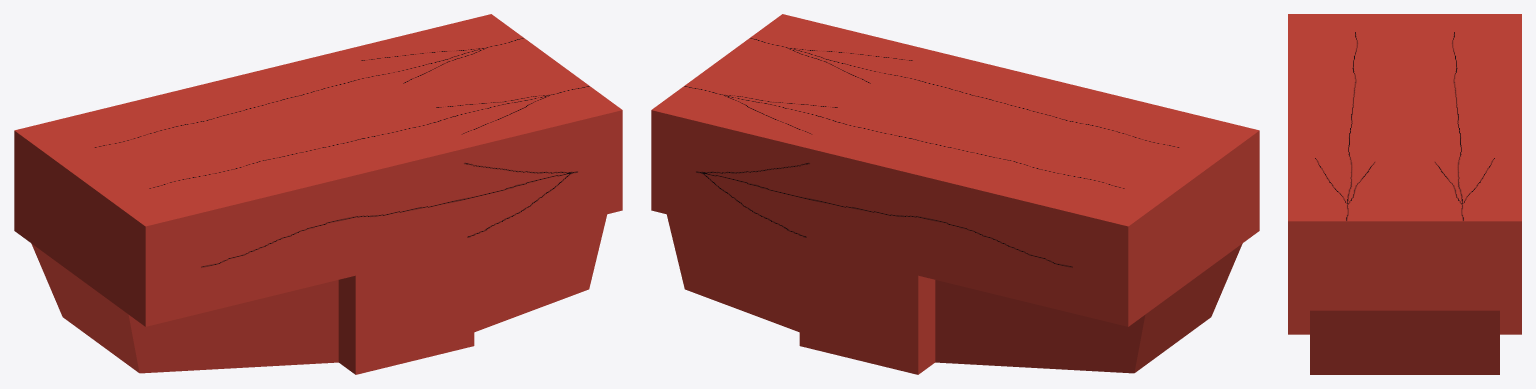
File: basic-combine-body.glb
3 views of the same model, side by side, from view 1: azimuth 30°, elevation 25°; view 2: azimuth 150°, elevation 25°; view 3: azimuth 270°, elevation 25° (orthographic). The views are drawn at different scales.
Visible parts, largest first — view 1: Cube; view 2: Cube; view 3: Cube.
Boxes of the visible parts, x1,y1,x2,y2 form: Cube: [14, 14, 622, 374]; Cube: [651, 14, 1259, 374]; Cube: [1288, 14, 1521, 374].
Bounding box in the file's own units: 9 × 3.6 × 4.29.
1 material, 1 textured.
